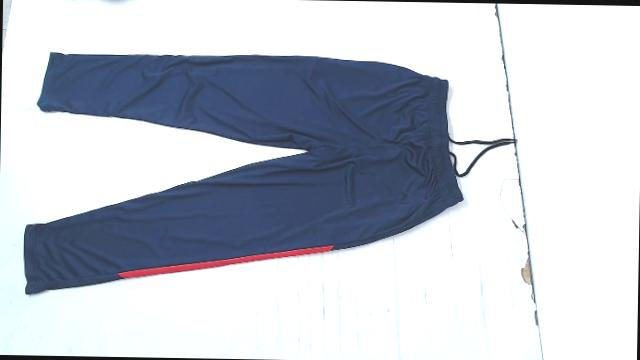new-garment: (24, 52, 463, 293)
